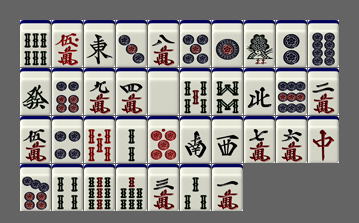0m: (52, 20, 83, 67)
0p: (148, 116, 179, 163)
0s: (84, 116, 115, 163)
1m: (212, 164, 243, 211)
1p: (212, 20, 243, 67)
1s: (244, 20, 275, 67)
1z: (84, 20, 115, 67)
2m: (308, 68, 339, 115)
2p: (276, 20, 307, 67)
2s: (116, 116, 147, 163)
2z: (180, 116, 211, 163)
3m: (148, 164, 179, 211)
3p: (116, 20, 147, 67)
3s: (180, 164, 211, 211)
3z: (212, 116, 243, 163)
4m: (116, 68, 147, 115)
4p: (52, 116, 83, 163)
4s: (52, 164, 83, 211)
4z: (244, 68, 275, 115)
5m: (20, 116, 51, 163)
5p: (180, 20, 211, 67)
5s: (180, 68, 211, 115)
5z: (148, 68, 179, 115)
6m: (276, 116, 307, 163)
6p: (52, 68, 83, 115)
6s: (20, 20, 51, 67)
6z: (20, 68, 51, 115)
7m: (244, 116, 275, 163)
7p: (20, 164, 51, 211)
7s: (116, 164, 147, 211)
7z: (308, 116, 339, 163)
8m: (148, 20, 179, 67)
8p: (308, 20, 339, 67)
8s: (212, 68, 243, 115)
9m: (84, 68, 115, 115)
9p: (276, 68, 307, 115)
9s: (84, 164, 115, 211)
